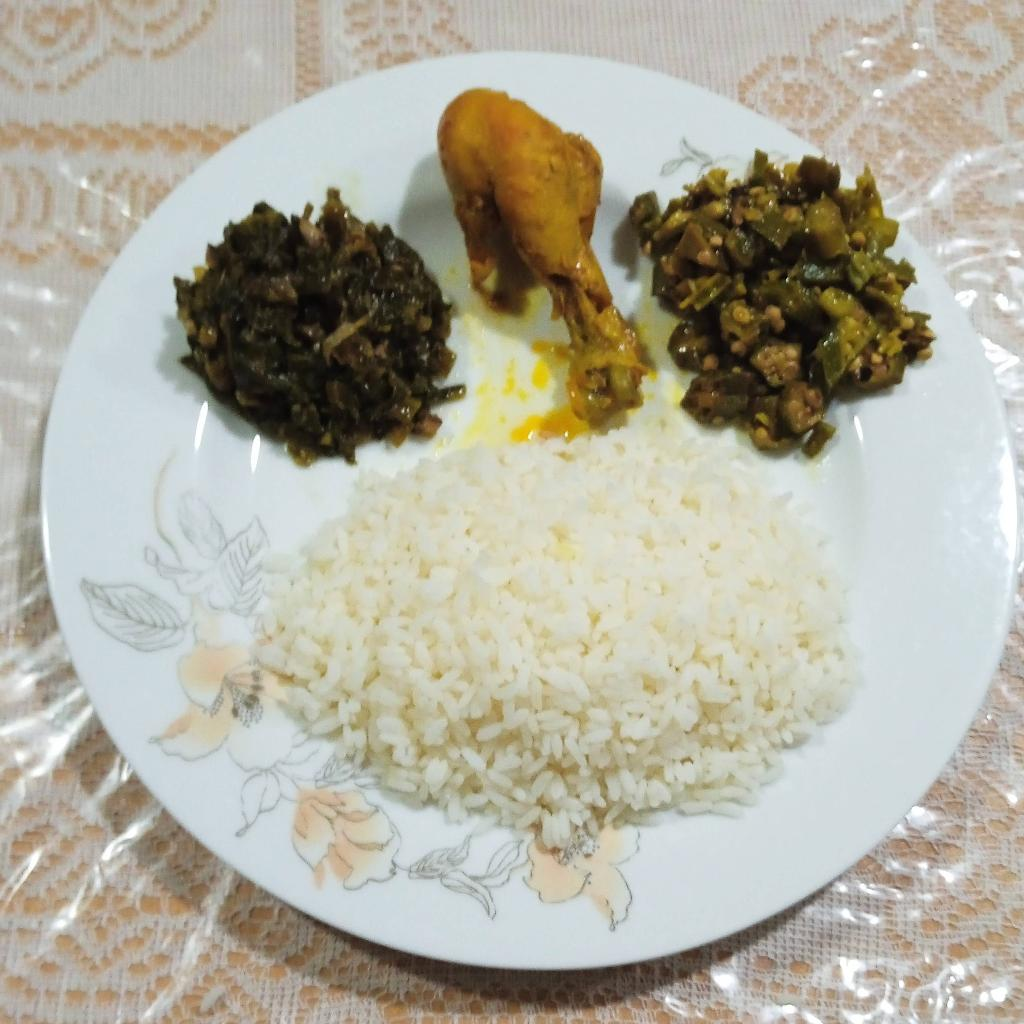chicken: (438, 89, 640, 417)
okra: (627, 152, 934, 454)
rice: (253, 409, 855, 852)
vegetable: (174, 190, 462, 463)
